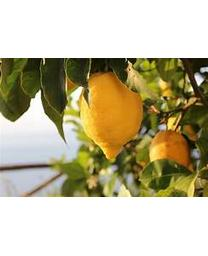lemon: (80, 69, 144, 160)
